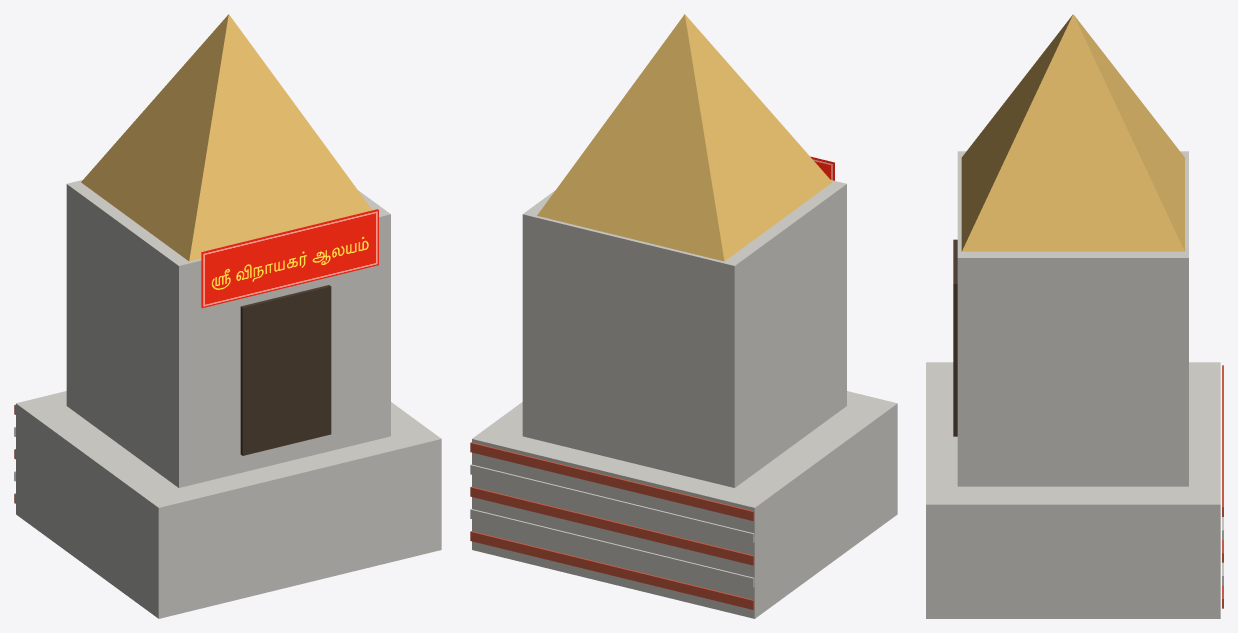
File: life_shrine.glb
The picture shows the model from 3 angles, left to right: view 1: azimuth 30°, elevation 25°; view 2: azimuth 150°, elevation 25°; view 3: azimuth 270°, elevation 25°; orthographic projection. The views are drawn at different scales.
Parts seen in each view (by area): view 1: Base; view 2: Base; view 3: Base.
Boxes of the visible parts, left/top/right/bottom form: Base: left=14, top=14, right=441, bottom=618; Base: left=470, top=14, right=897, bottom=618; Base: left=926, top=14, right=1223, bottom=618.
Size of the model in its own units: 1.6 by 2.8 by 1.42.
Materials: 5 (1 with a texture image).
